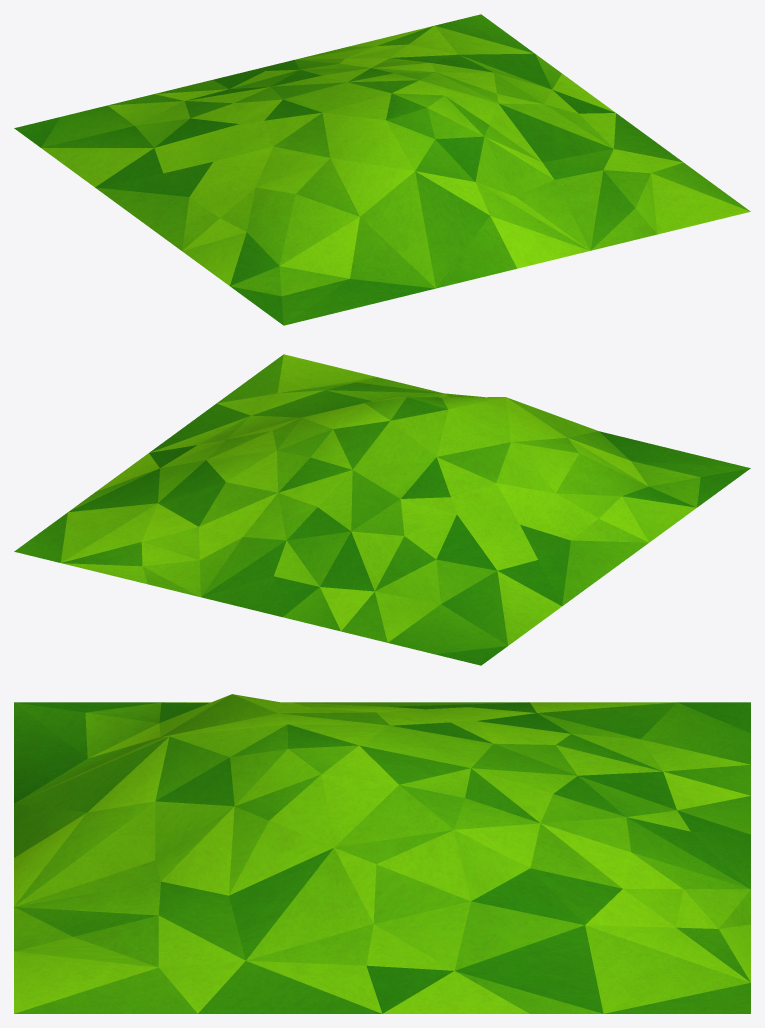
File: Terrain-part-17.fbx
3 views of the same model, one above another, from view 1: azimuth 30°, elevation 25°; view 2: azimuth 150°, elevation 25°; view 3: azimuth 270°, elevation 25° (orthographic). The views are drawn at different scales.
Visible parts, largest first — view 1: Terrain-part-17; view 2: Terrain-part-17; view 3: Terrain-part-17.
Part boxes in pixels (bbox=[...]): Terrain-part-17: bbox=[14, 14, 750, 325]; Terrain-part-17: bbox=[14, 354, 750, 665]; Terrain-part-17: bbox=[14, 694, 750, 1013].
Size of the model in its own units: 6 by 1.04 by 6.
